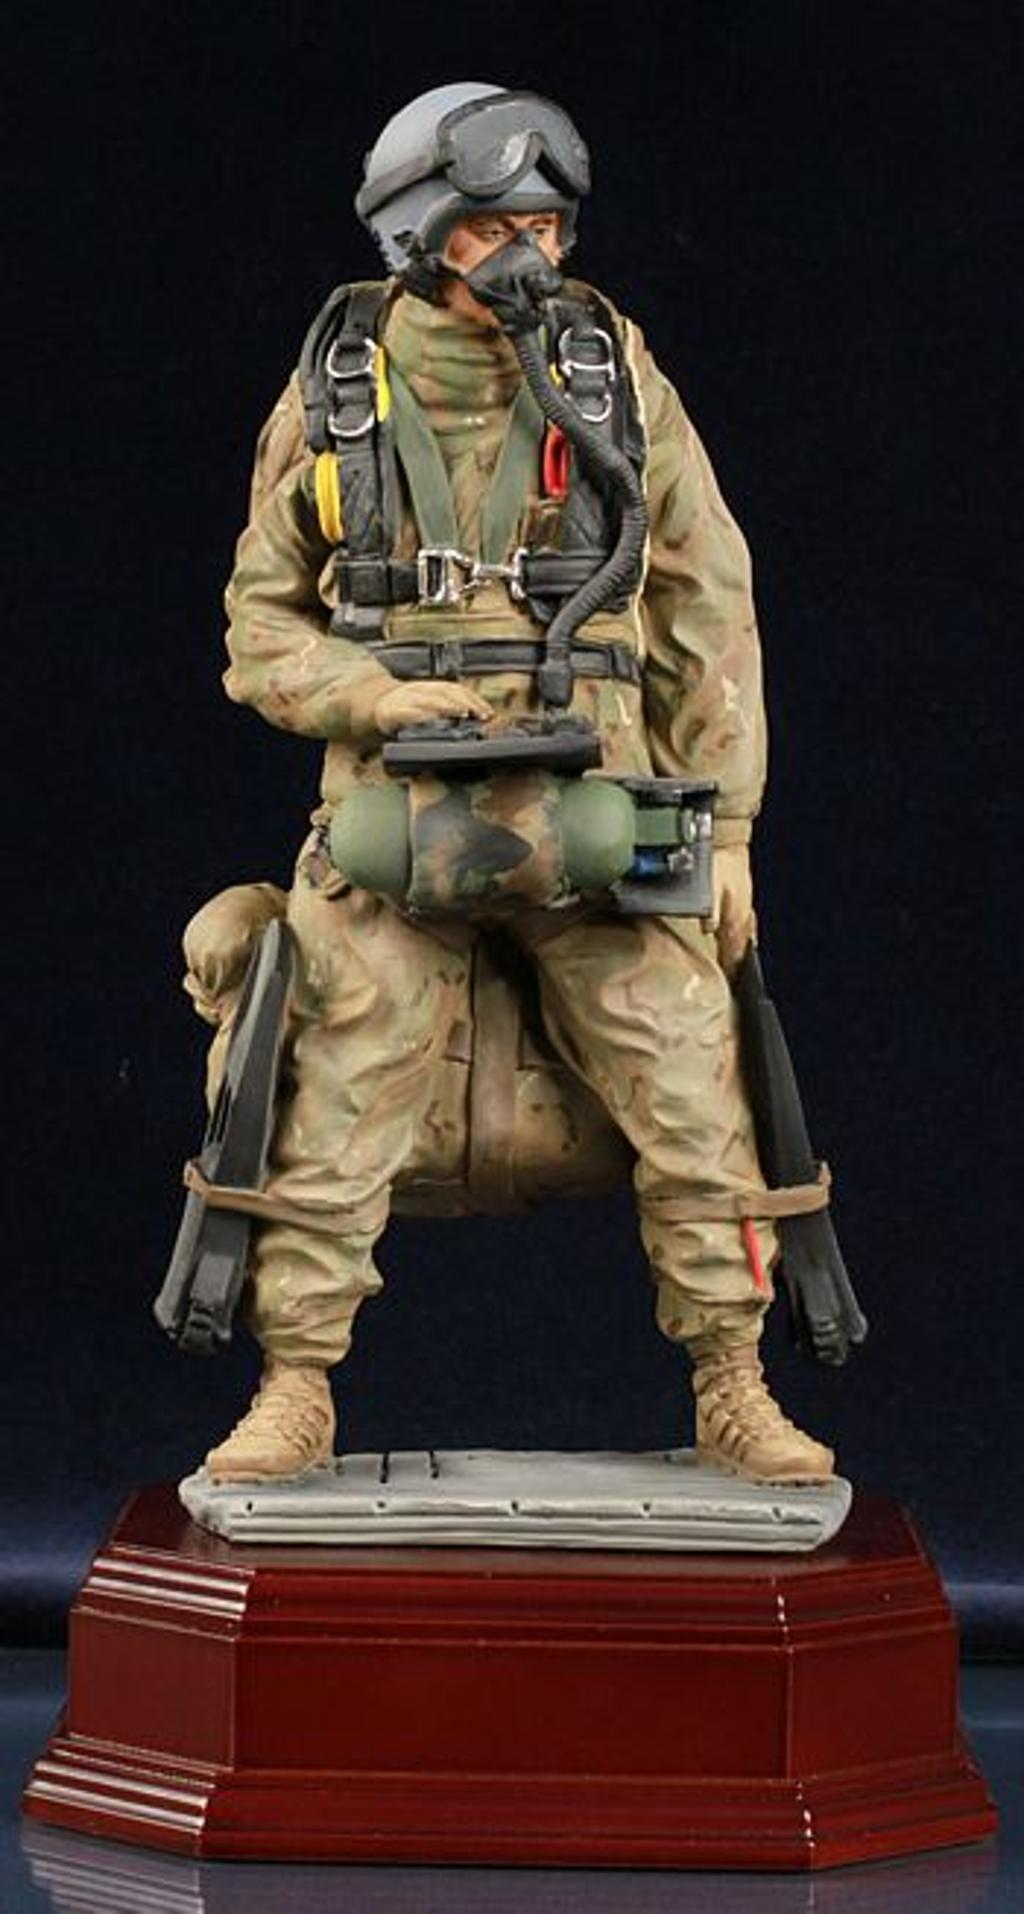face: (438, 143, 573, 334)
